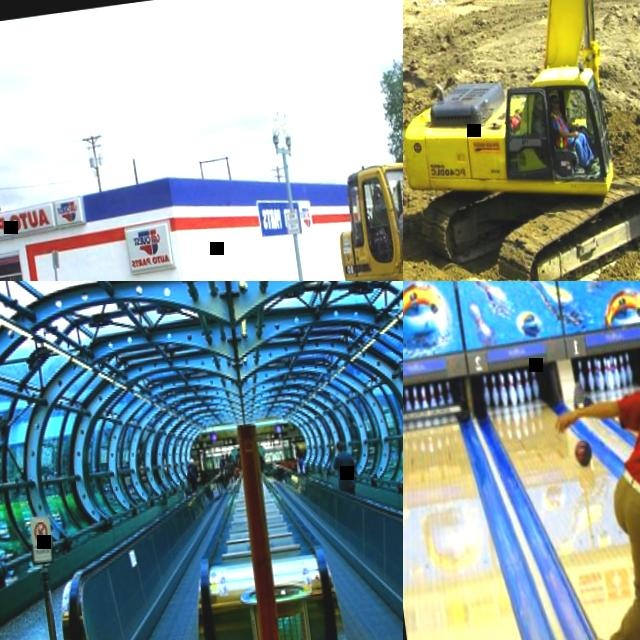NO-Hardhat: (335, 441, 346, 454), (549, 96, 557, 102), (189, 460, 194, 466), (226, 457, 229, 462), (298, 455, 300, 459)
NO-Mask: (551, 104, 559, 111)
NO-Safety Vest: (615, 387, 640, 508), (334, 451, 355, 488), (187, 464, 197, 479), (224, 462, 233, 476), (297, 458, 303, 468)
Person: (533, 337, 640, 640), (547, 92, 599, 179), (329, 441, 357, 497), (185, 458, 199, 492), (222, 455, 234, 483), (297, 455, 304, 474)
Safety Vest: (550, 112, 570, 151)
machinery: (403, 0, 640, 281), (318, 79, 403, 281)
